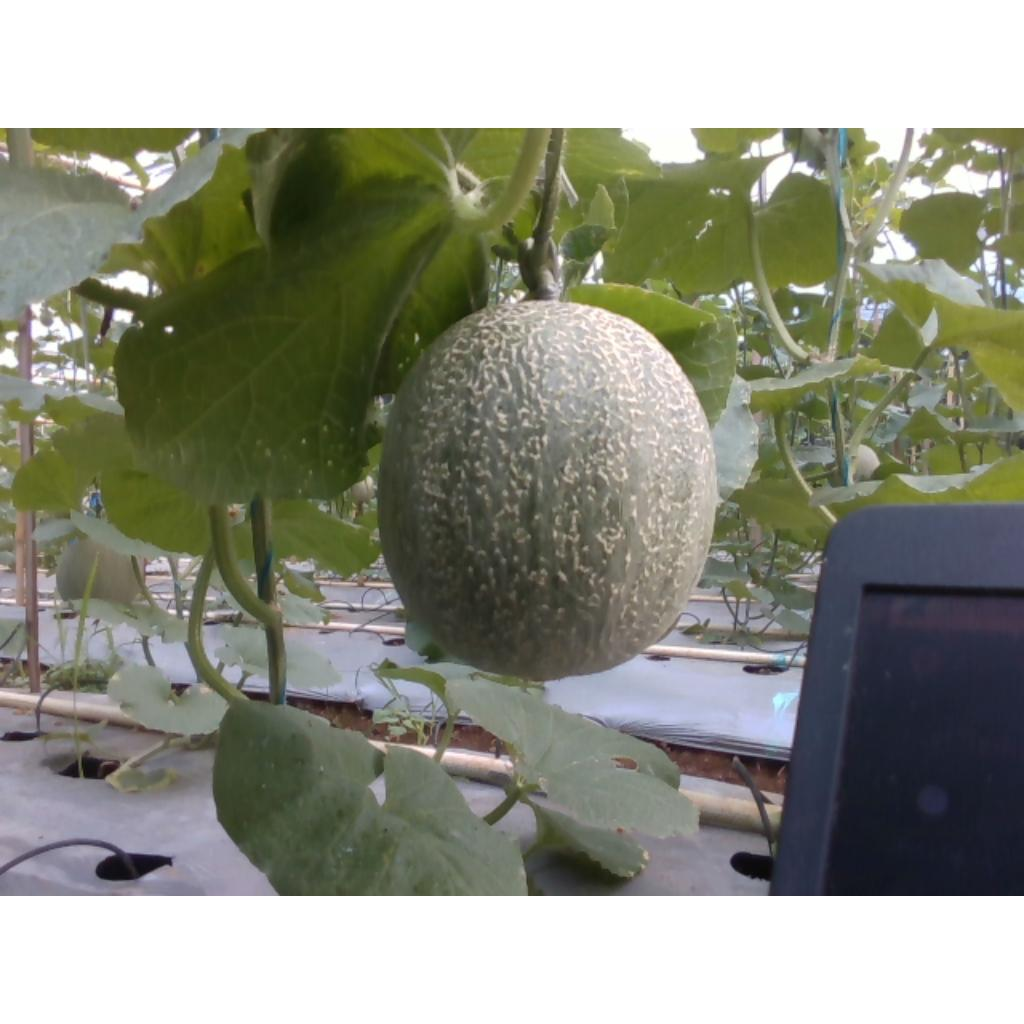melon: (381, 301, 718, 681)
